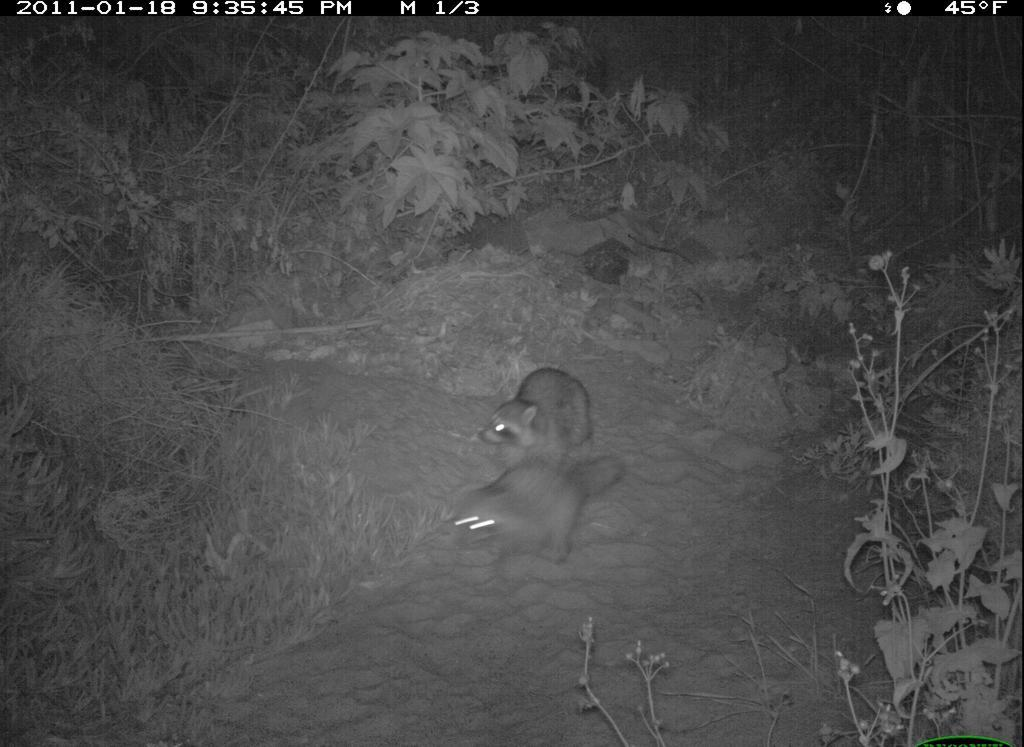raccoon: (452, 456, 626, 568), (473, 363, 603, 468)
